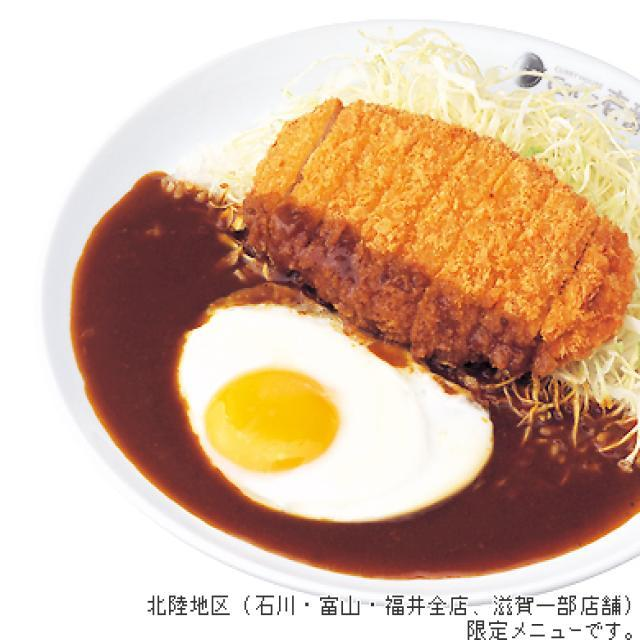Egg: (180, 304, 488, 522)
